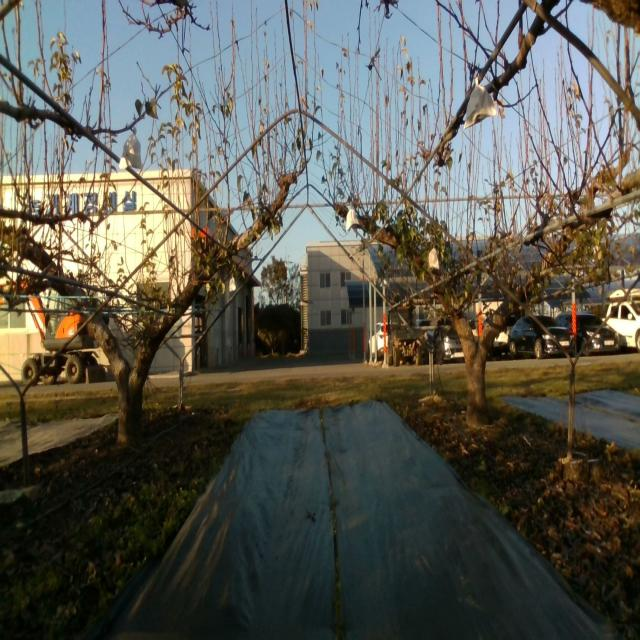pearbags: (462, 78, 497, 131), (119, 126, 143, 174), (346, 208, 360, 232), (428, 245, 440, 271)
